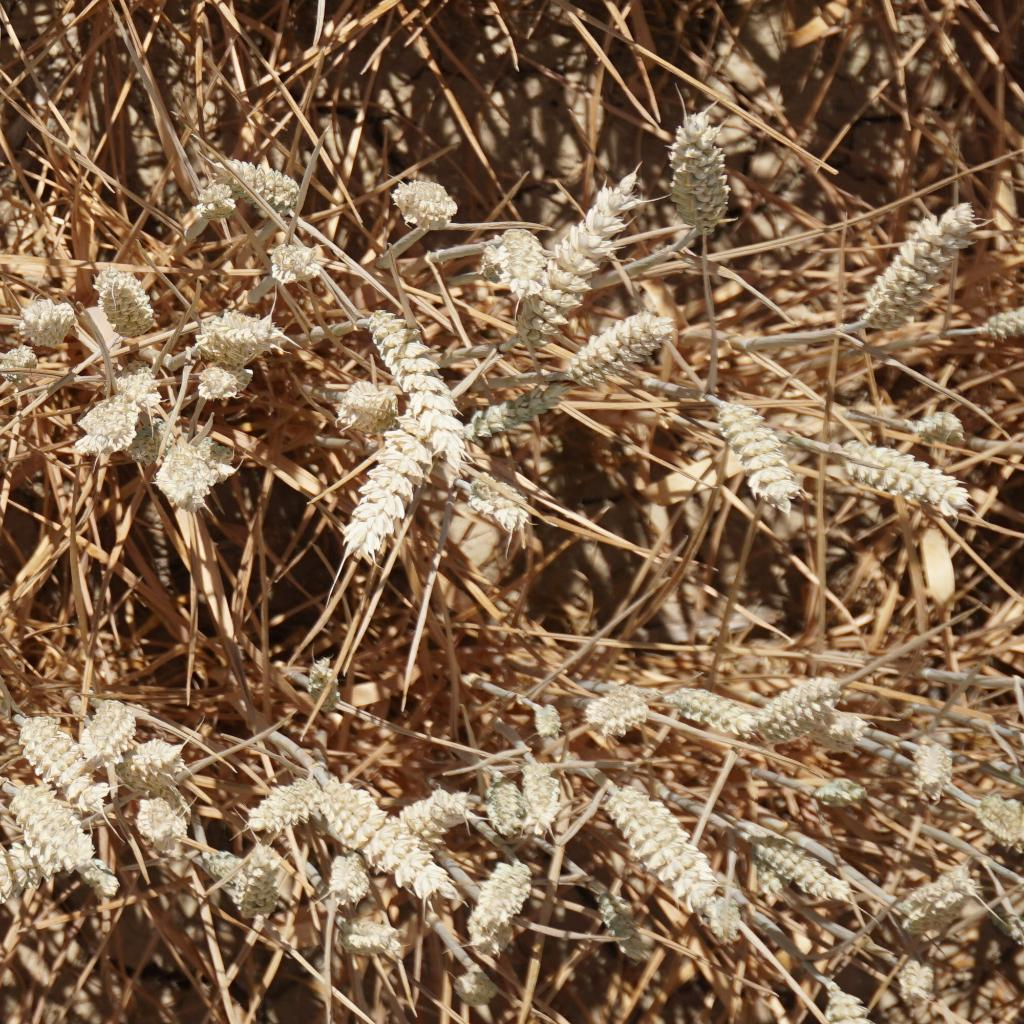0-0: (498, 171, 644, 358), (305, 760, 451, 898), (362, 303, 480, 456), (325, 431, 446, 555), (835, 435, 980, 527), (433, 444, 549, 551), (604, 781, 710, 898), (874, 202, 974, 321), (868, 854, 988, 945), (541, 301, 667, 386), (664, 92, 736, 236), (709, 390, 797, 507), (442, 371, 583, 442), (461, 857, 548, 964), (480, 220, 565, 325), (740, 823, 850, 902), (15, 702, 96, 807), (0, 832, 77, 939), (112, 775, 200, 868), (88, 716, 195, 791), (588, 880, 671, 970), (390, 768, 472, 856), (7, 785, 88, 874), (145, 427, 230, 509), (754, 669, 846, 742), (656, 677, 755, 737), (230, 147, 311, 220), (216, 846, 291, 921), (74, 677, 143, 758), (195, 305, 289, 364), (247, 762, 322, 835), (92, 275, 161, 354), (510, 752, 567, 847), (314, 839, 384, 915), (70, 386, 145, 453), (387, 167, 459, 236), (323, 905, 408, 963), (188, 366, 281, 413), (256, 220, 325, 283), (582, 685, 649, 748), (6, 287, 78, 344), (905, 732, 966, 799), (479, 763, 529, 839), (965, 791, 1024, 853), (807, 765, 882, 811), (297, 651, 348, 716), (342, 377, 390, 437), (118, 348, 161, 409), (0, 344, 49, 397), (921, 403, 970, 449), (896, 947, 939, 996), (183, 181, 226, 226), (531, 700, 561, 740)
